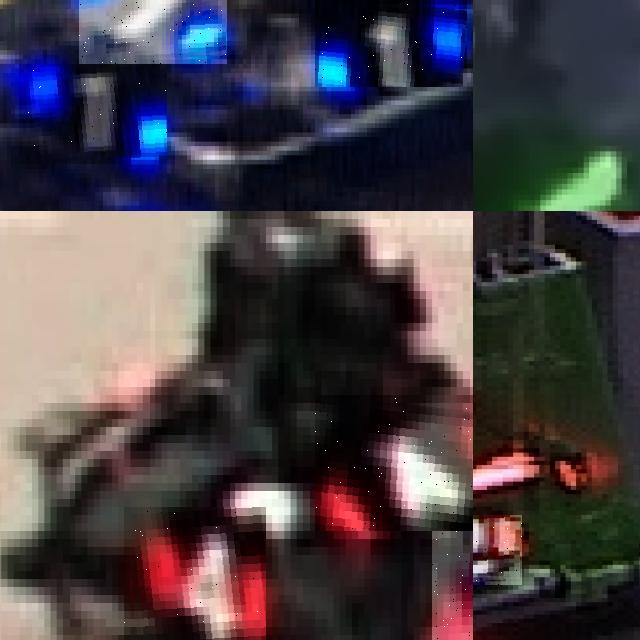B1: (19, 64, 167, 164), (315, 0, 467, 86), (79, 0, 227, 64)
R2: (473, 514, 523, 585)
R4: (315, 395, 473, 531), (124, 507, 265, 640), (432, 531, 473, 640)
